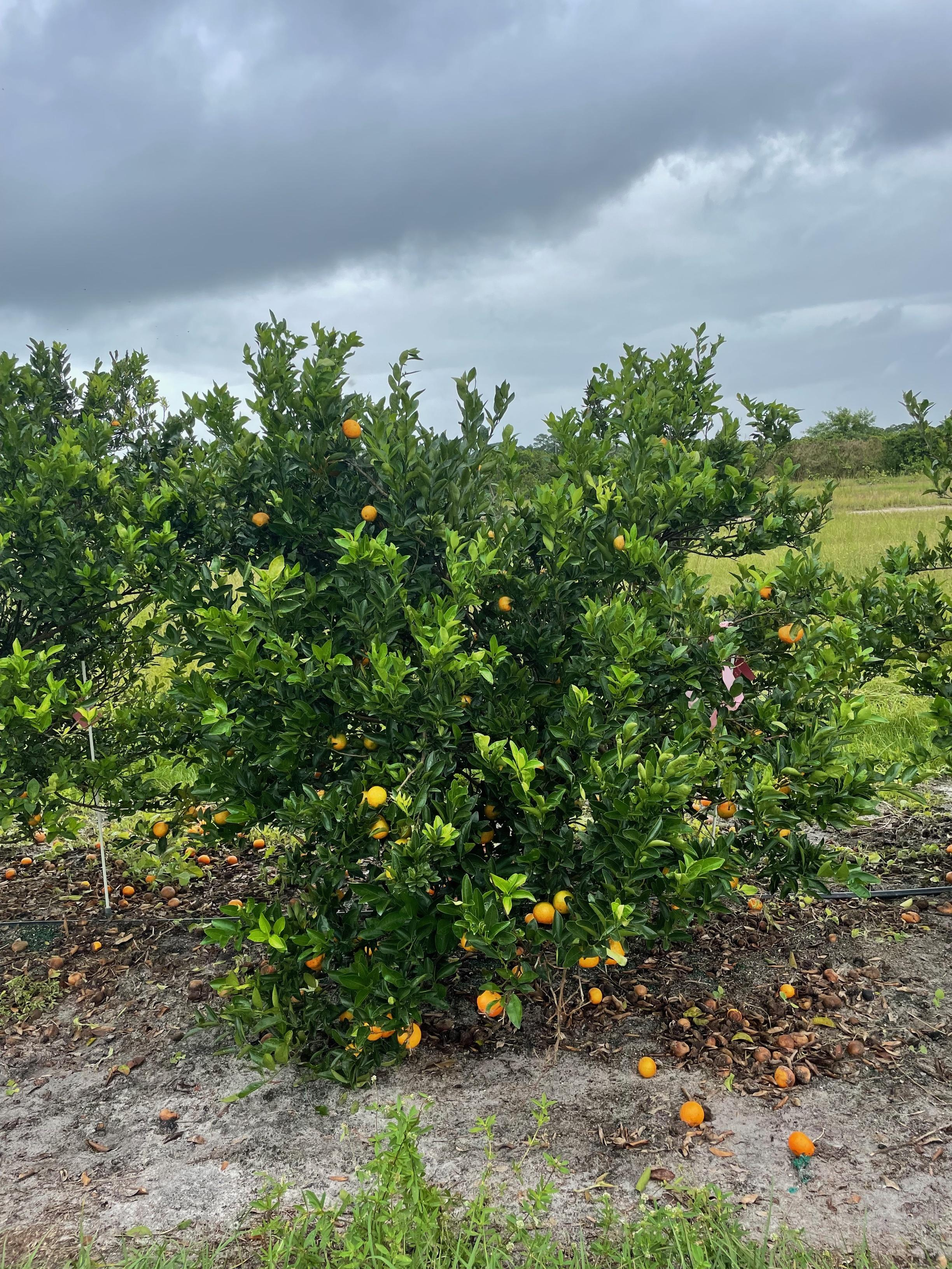fruit_on_ground: (69, 696, 103, 731), (475, 988, 508, 1019), (394, 1019, 424, 1051), (312, 453, 345, 481), (340, 1030, 370, 1058), (777, 620, 807, 645), (552, 888, 578, 915), (247, 506, 275, 531), (362, 783, 390, 808), (367, 815, 392, 841), (338, 415, 364, 440), (604, 937, 629, 962), (576, 945, 602, 969), (531, 899, 555, 924), (302, 949, 328, 972), (362, 1020, 386, 1044), (357, 501, 382, 524), (456, 932, 480, 955), (354, 648, 377, 671), (608, 531, 631, 554), (493, 592, 516, 615), (716, 797, 738, 820), (772, 776, 796, 797), (327, 730, 348, 752), (651, 432, 674, 452), (474, 825, 497, 845), (455, 690, 476, 711), (756, 579, 777, 600), (392, 831, 415, 850), (746, 724, 767, 744), (380, 1010, 400, 1031), (335, 1006, 357, 1025), (481, 802, 503, 821), (694, 795, 716, 813), (481, 525, 501, 544), (395, 820, 415, 839), (361, 734, 381, 752), (151, 820, 170, 838), (915, 647, 932, 664), (776, 825, 794, 841), (26, 811, 43, 827), (212, 808, 229, 824), (182, 807, 198, 823), (727, 874, 742, 891), (159, 884, 177, 898), (187, 821, 205, 835), (522, 910, 537, 926), (424, 883, 440, 898), (196, 853, 211, 867), (659, 863, 674, 877), (186, 802, 201, 816), (16, 787, 30, 801), (315, 785, 329, 799), (312, 767, 325, 780), (184, 845, 197, 858), (252, 836, 266, 848), (235, 829, 247, 839)
fruit_on_tree: (476, 988, 508, 1018), (678, 1099, 707, 1128), (787, 1130, 816, 1158), (604, 936, 628, 961), (773, 1064, 796, 1089), (636, 1054, 658, 1078), (458, 932, 481, 954), (750, 1044, 774, 1064), (577, 951, 602, 969), (604, 946, 625, 967), (774, 1031, 796, 1051), (670, 1039, 692, 1059), (792, 1063, 812, 1085), (257, 957, 278, 977), (845, 1038, 866, 1058), (334, 1006, 355, 1025), (821, 994, 844, 1011), (66, 970, 86, 988), (831, 1040, 851, 1058), (586, 985, 604, 1005), (157, 1105, 178, 1122), (631, 981, 650, 998), (746, 895, 765, 912), (900, 909, 920, 925), (777, 982, 797, 998), (726, 1007, 745, 1023), (187, 977, 206, 993), (10, 937, 29, 953), (703, 1033, 721, 1048), (675, 1015, 693, 1030), (702, 996, 718, 1012), (823, 967, 840, 982), (47, 954, 65, 968), (226, 896, 244, 910), (727, 874, 742, 890), (162, 891, 179, 905), (798, 995, 816, 1008), (859, 989, 875, 1003), (160, 884, 176, 897), (425, 883, 439, 897), (32, 830, 47, 843), (668, 900, 682, 912), (166, 897, 180, 909), (4, 867, 18, 879), (826, 932, 839, 944), (122, 883, 135, 895), (19, 856, 33, 867), (942, 842, 952, 857), (942, 869, 952, 884), (120, 887, 133, 898), (198, 853, 211, 864), (117, 898, 129, 909), (144, 873, 156, 884), (185, 847, 198, 857), (225, 854, 238, 864), (91, 939, 102, 950), (107, 925, 119, 935)
